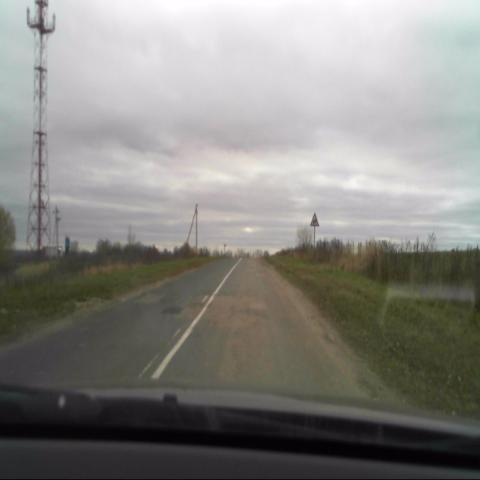1_12: (310, 210, 319, 228)
